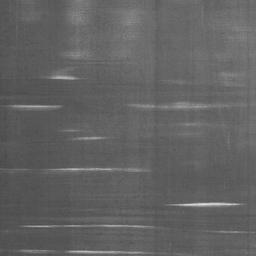Waist folding: (0, 166, 256, 256), (60, 30, 256, 142), (0, 45, 132, 82), (71, 7, 163, 27), (0, 103, 63, 112), (21, 19, 40, 24)
